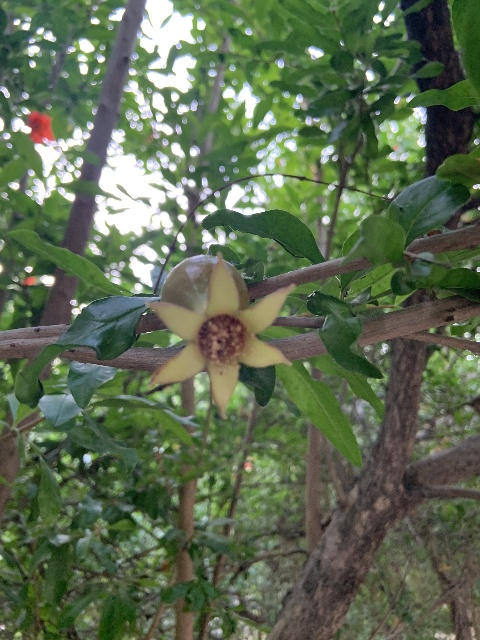early-fruit: (145, 253, 290, 419)
flower: (25, 110, 55, 144)
